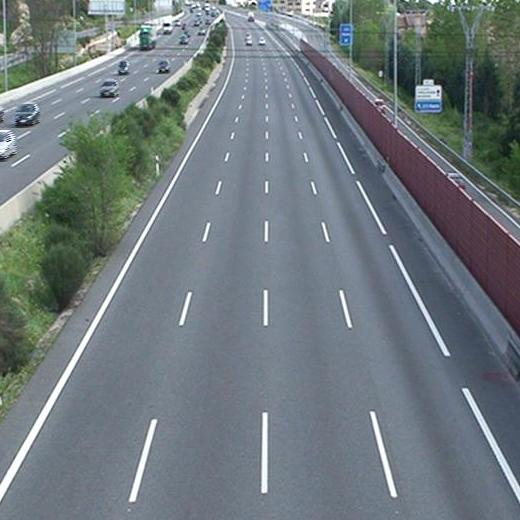car: (245, 37, 252, 47), (258, 35, 265, 45)
